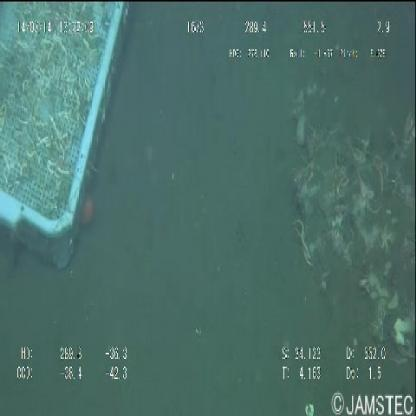Rác: (1, 2, 137, 271)
